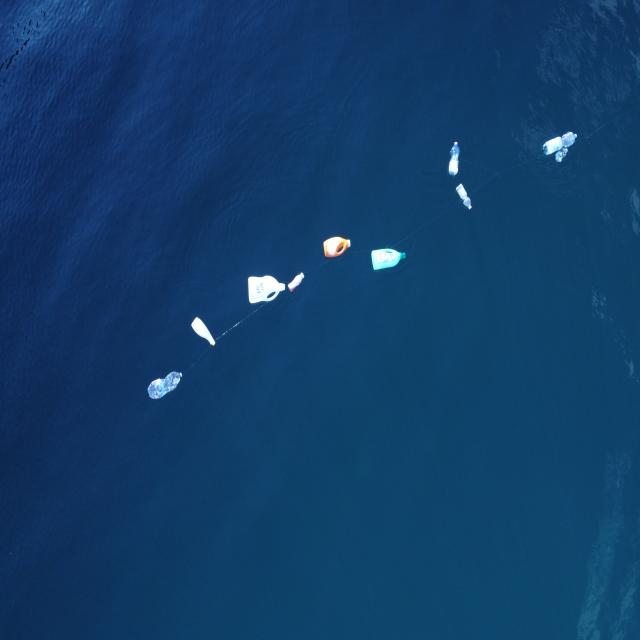bottles: (146, 366, 185, 404), (247, 274, 286, 304), (370, 245, 407, 271), (191, 313, 217, 348), (322, 232, 354, 260), (542, 131, 578, 155), (446, 139, 461, 177), (286, 270, 306, 294), (456, 183, 472, 210), (555, 147, 568, 163)
